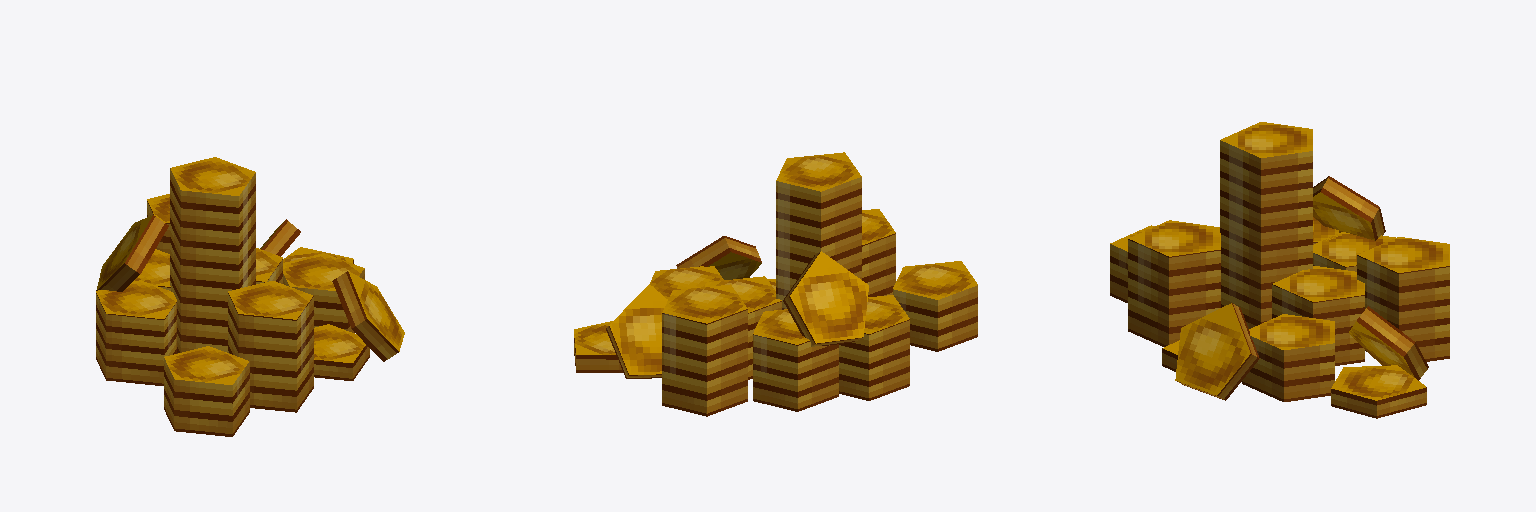
3 views of the same model, side by side, from view 1: azimuth 30°, elevation 25°; view 2: azimuth 150°, elevation 25°; view 3: azimuth 270°, elevation 25° (orthographic).
Visible parts, largest first — view 1: coins; view 2: coins; view 3: coins.
Boxes of the visible parts, x1,y1,x2,y2 form: coins: [96, 157, 404, 436]; coins: [574, 152, 977, 416]; coins: [1110, 122, 1449, 418].
Size of the model in its own units: 0.8832 by 0.5383 by 0.8913.
Materials: 1 (1 with a texture image).